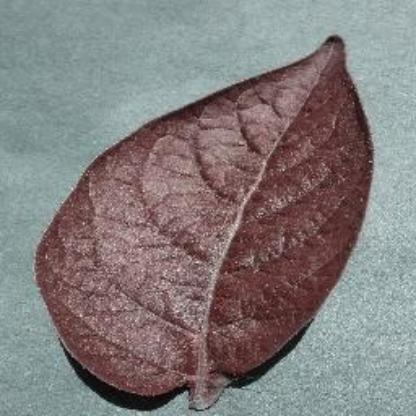Healthy-plant: (34, 32, 376, 398)
